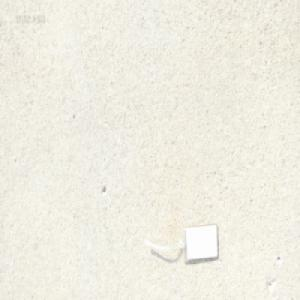LuggageTag: (141, 221, 218, 264)
